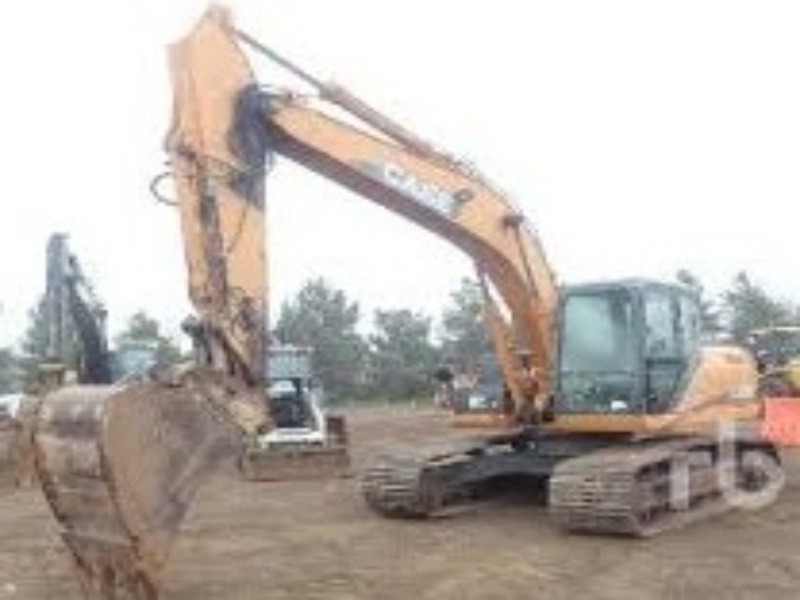wajueji: (355, 241, 788, 543)
